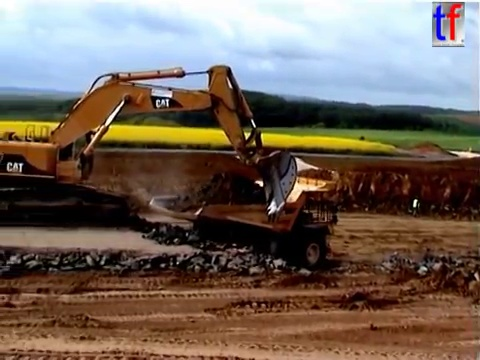truck: (1, 62, 301, 229), (146, 166, 347, 273)
worker: (409, 194, 422, 220)
